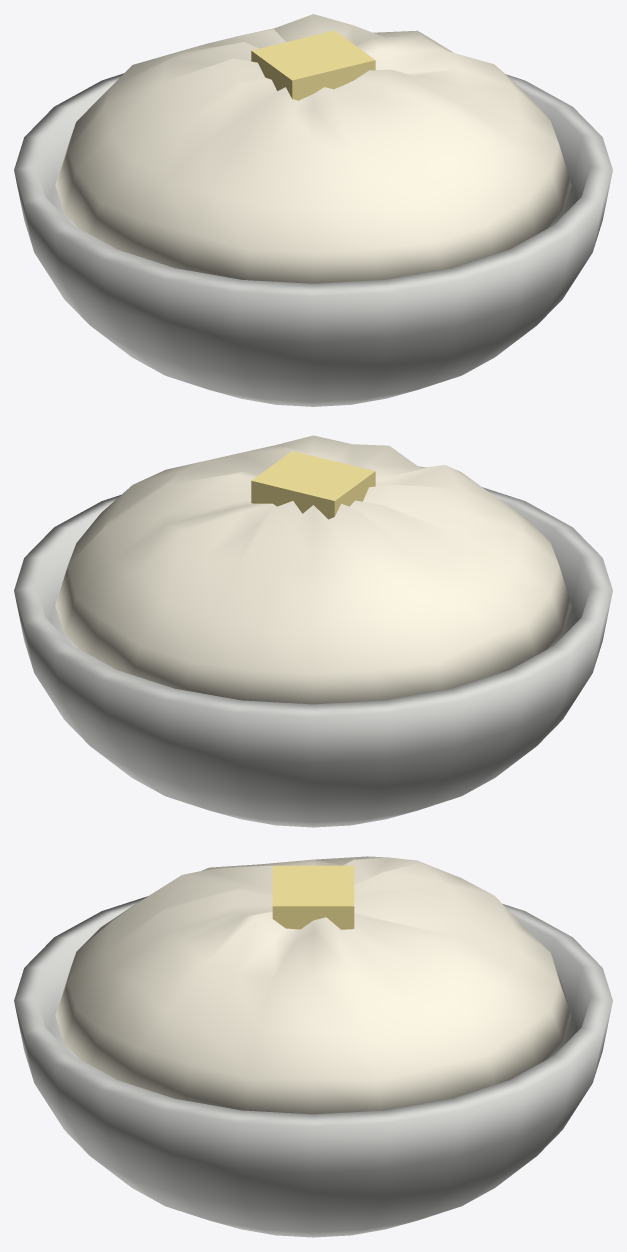
File: bowl-mash.glb
The picture shows the model from 3 angles, top to bottom: view 1: azimuth 30°, elevation 25°; view 2: azimuth 150°, elevation 25°; view 3: azimuth 270°, elevation 25°; orthographic projection.
Parts seen in each view (by area): view 1: mash, bowl, butter; view 2: mash, bowl, butter; view 3: mash, bowl, butter.
Boxes of the visible parts, box(x1,y1,x2,y2) form: mash: box(55, 14, 571, 283); bowl: box(14, 73, 612, 406); butter: box(251, 30, 375, 100); mash: box(55, 435, 571, 704); bowl: box(14, 487, 612, 827); butter: box(251, 451, 375, 519); mash: box(55, 856, 571, 1114); bowl: box(14, 896, 612, 1237); butter: box(272, 865, 354, 929).
Size of the model in its own units: 0.1618 by 0.0881 by 0.1618.
